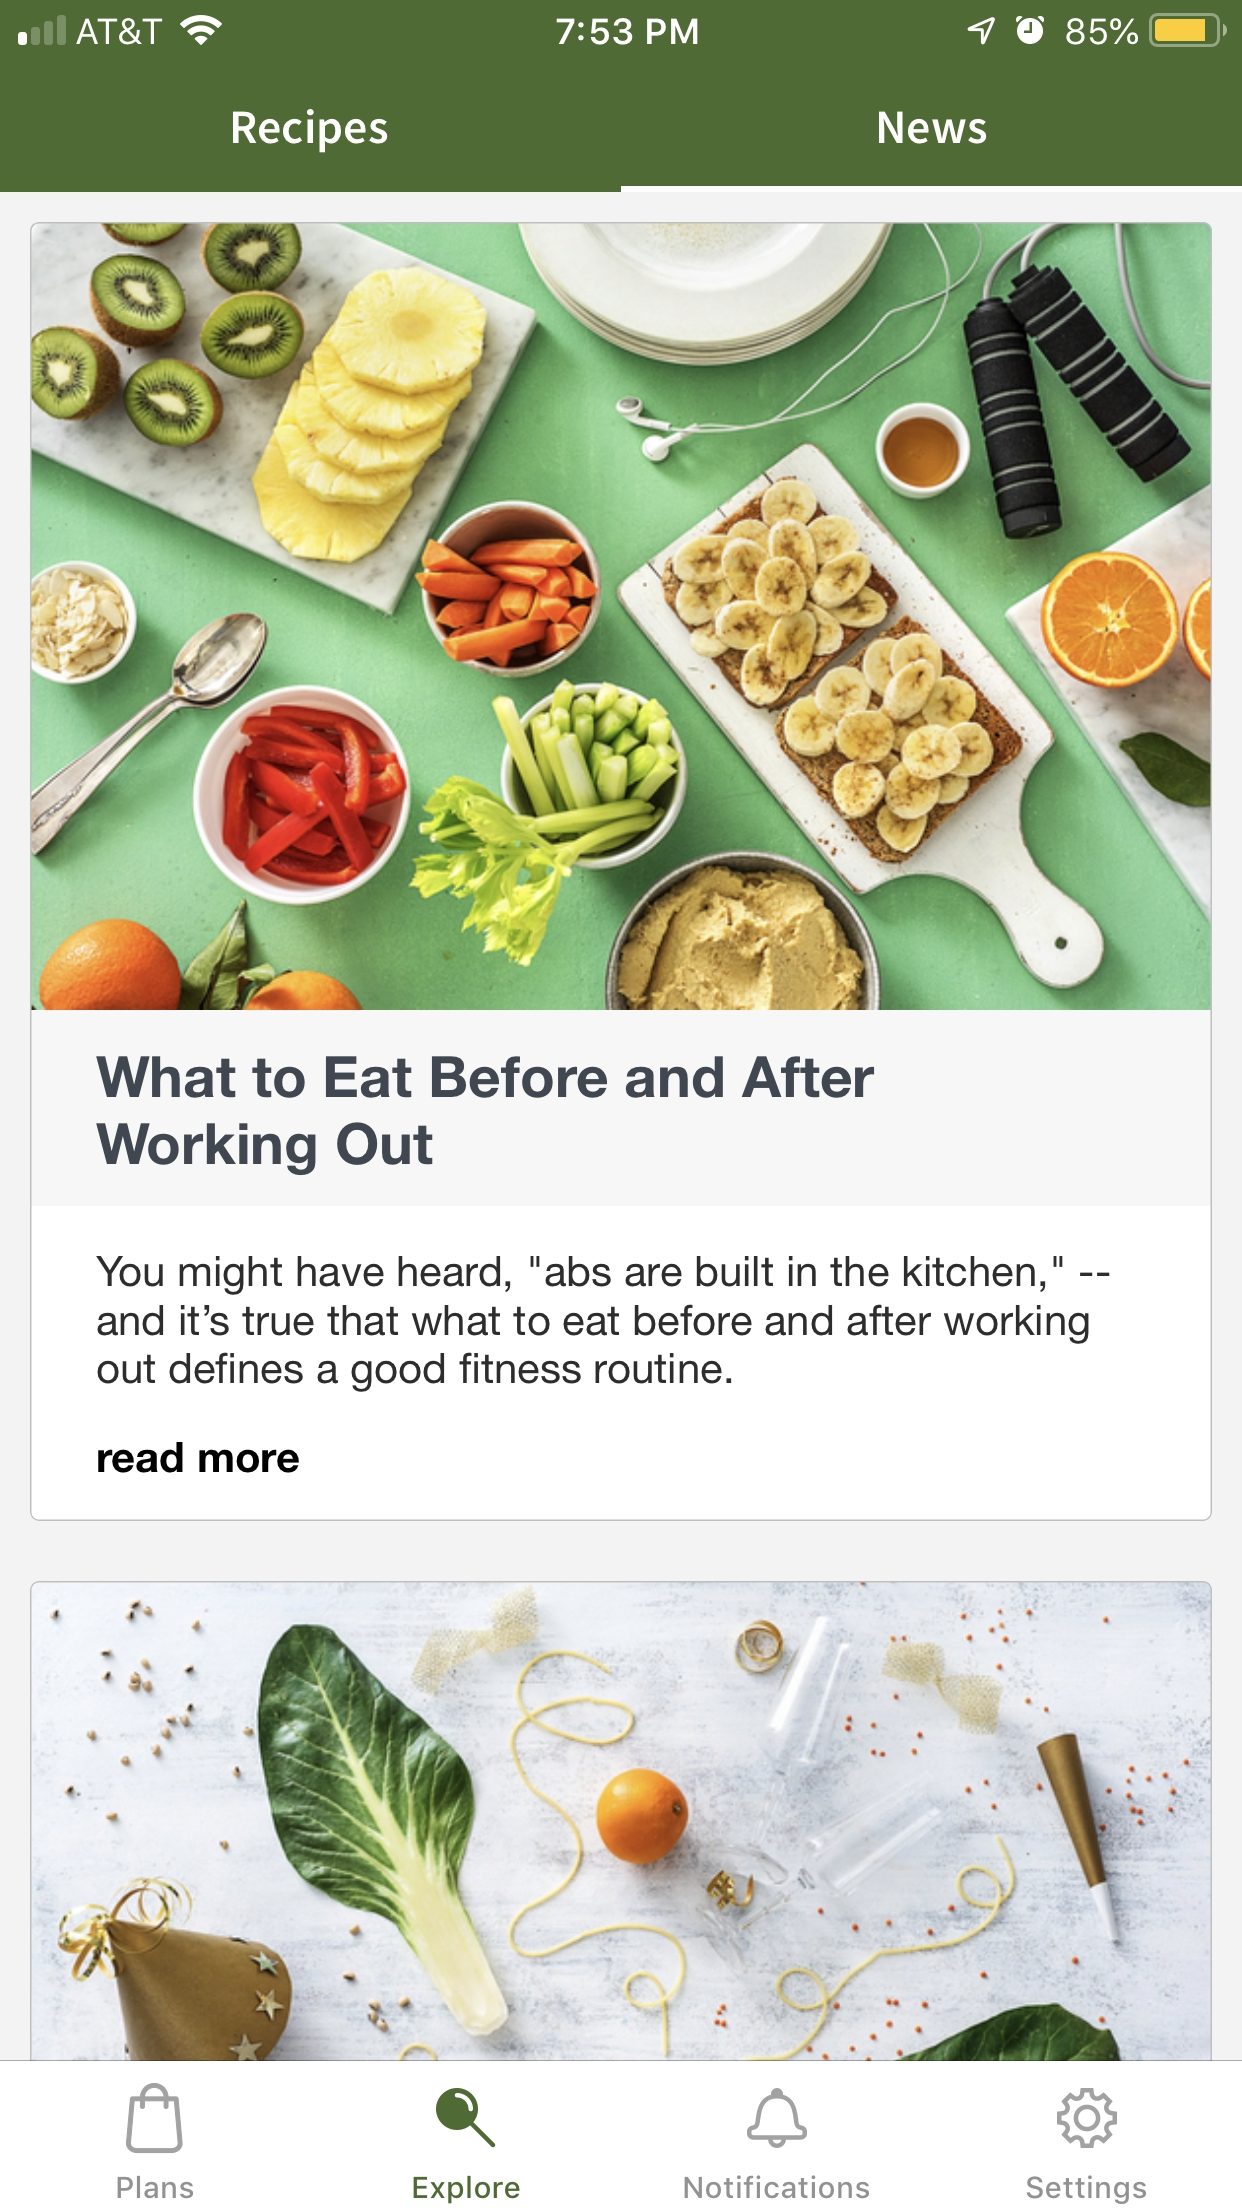Icon: (127, 2082, 185, 2153), (746, 2087, 808, 2149), (1057, 2088, 1118, 2149), (437, 2087, 496, 2147)
Image: (32, 224, 1210, 1011), (33, 1583, 1212, 2059)
Text: (97, 1256, 1112, 1394), (96, 1055, 875, 1177), (234, 109, 390, 155), (99, 1442, 300, 1474), (684, 2175, 870, 2199), (877, 111, 987, 146), (1027, 2175, 1146, 2205), (412, 2175, 522, 2203), (118, 2175, 196, 2199)
UpperTaskBar: (2, 2, 1242, 49)
